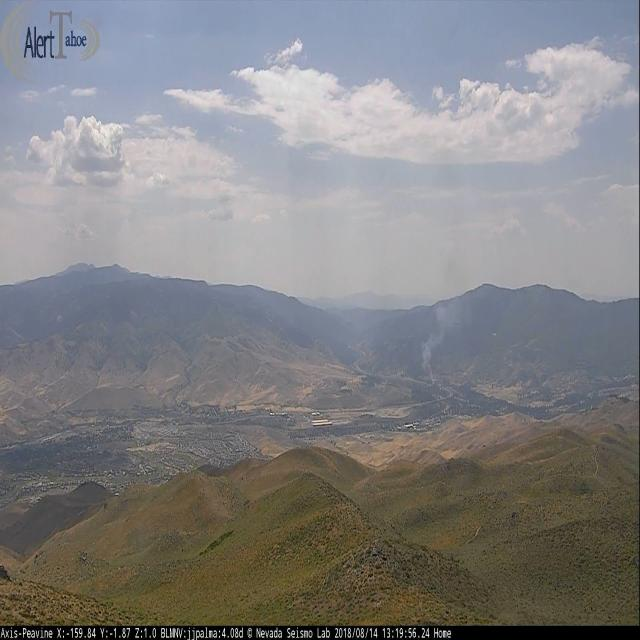smoke: (424, 299, 457, 382)
